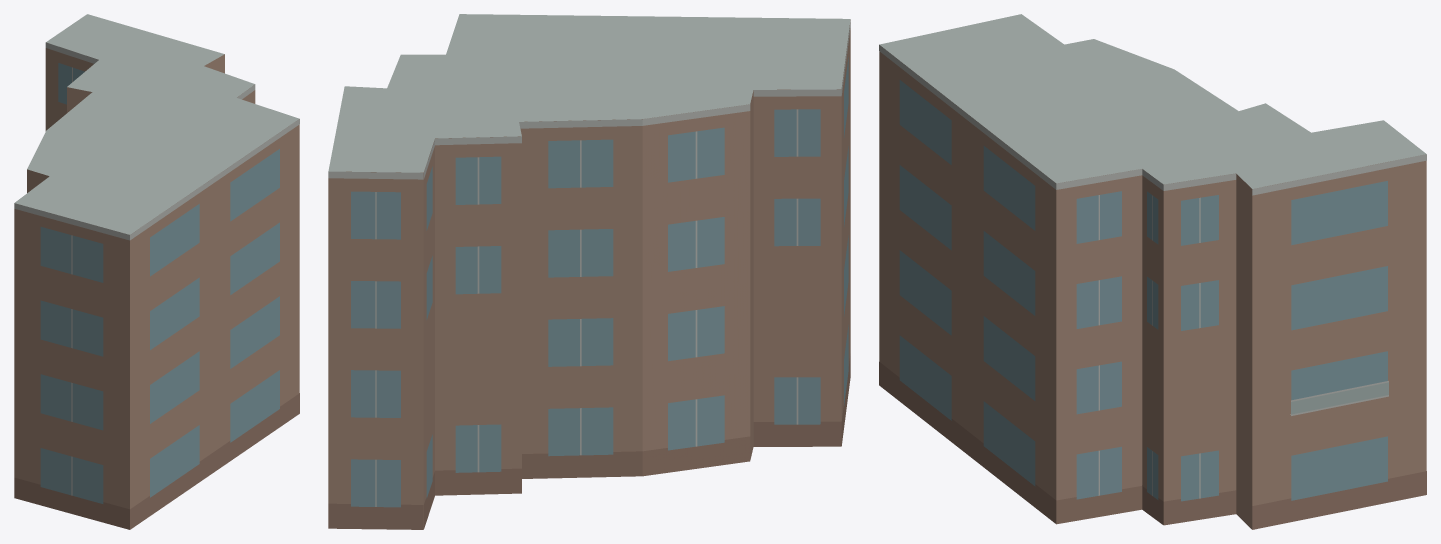
File: survey-upis-32474693.glb
3 renders of one model, left to right at view 1: azimuth 30°, elevation 25°; view 2: azimuth 150°, elevation 25°; view 3: azimuth 270°, elevation 25°, orthographic. The views are drawn at different scales.
Parts seen in each view (by area): view 1: survey-upis-32474693.tmp; view 2: survey-upis-32474693.tmp; view 3: survey-upis-32474693.tmp.
Boxes of the visible parts, <box> form: survey-upis-32474693.tmp: <box>14,14,299,529</box>; survey-upis-32474693.tmp: <box>328,14,850,529</box>; survey-upis-32474693.tmp: <box>879,14,1426,529</box>.
Bounding box in the file's own units: 14.11 × 12.8 × 18.65.
